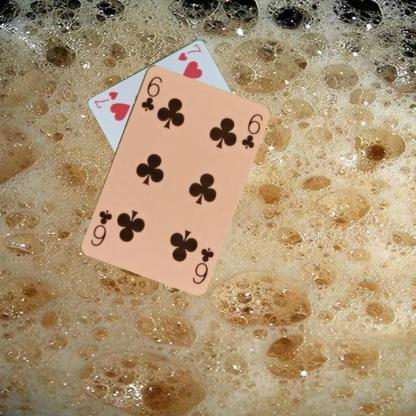6c: (189, 244, 215, 286), (138, 72, 164, 112)
7h: (175, 41, 202, 62)
